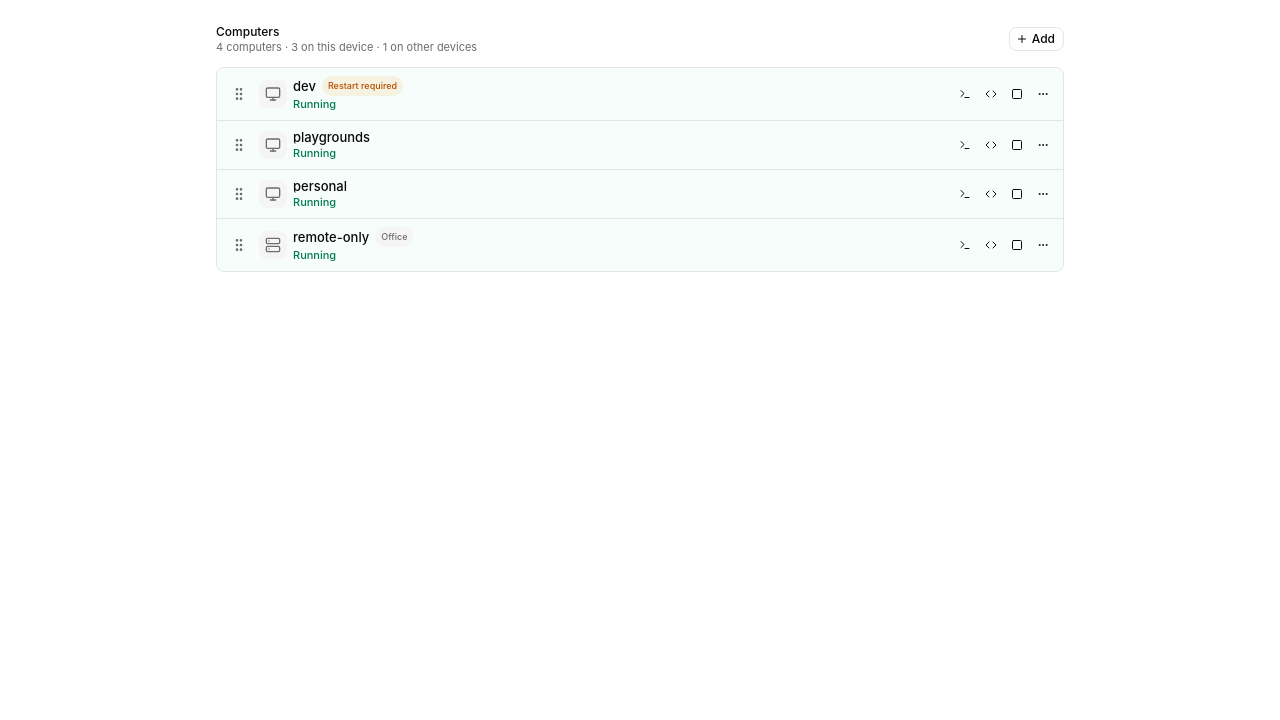
Test: rejects a checkpoint fork name that another computer on this device already uses
Click the button named "More actions for dev": click(1043, 94) [1031,82,1055,106]
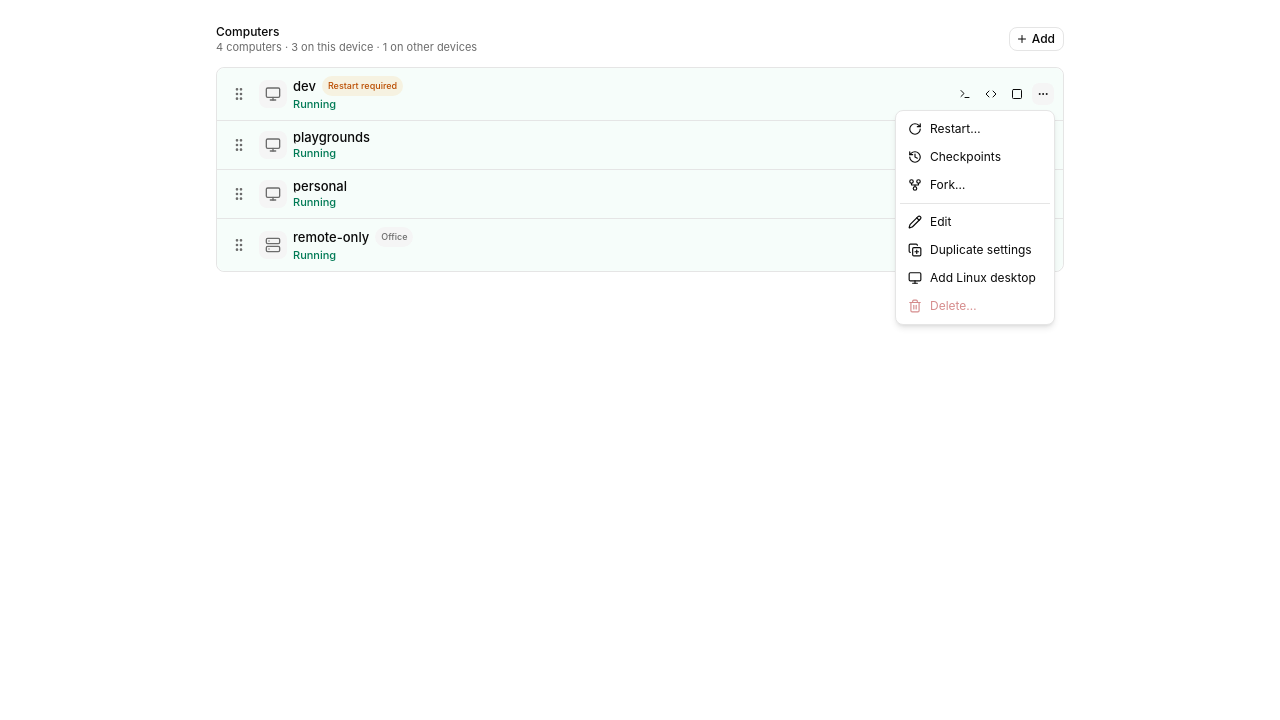
Click the menu item with aria-label "Checkpoints for dev": click(954, 156) [908,149,1001,164]
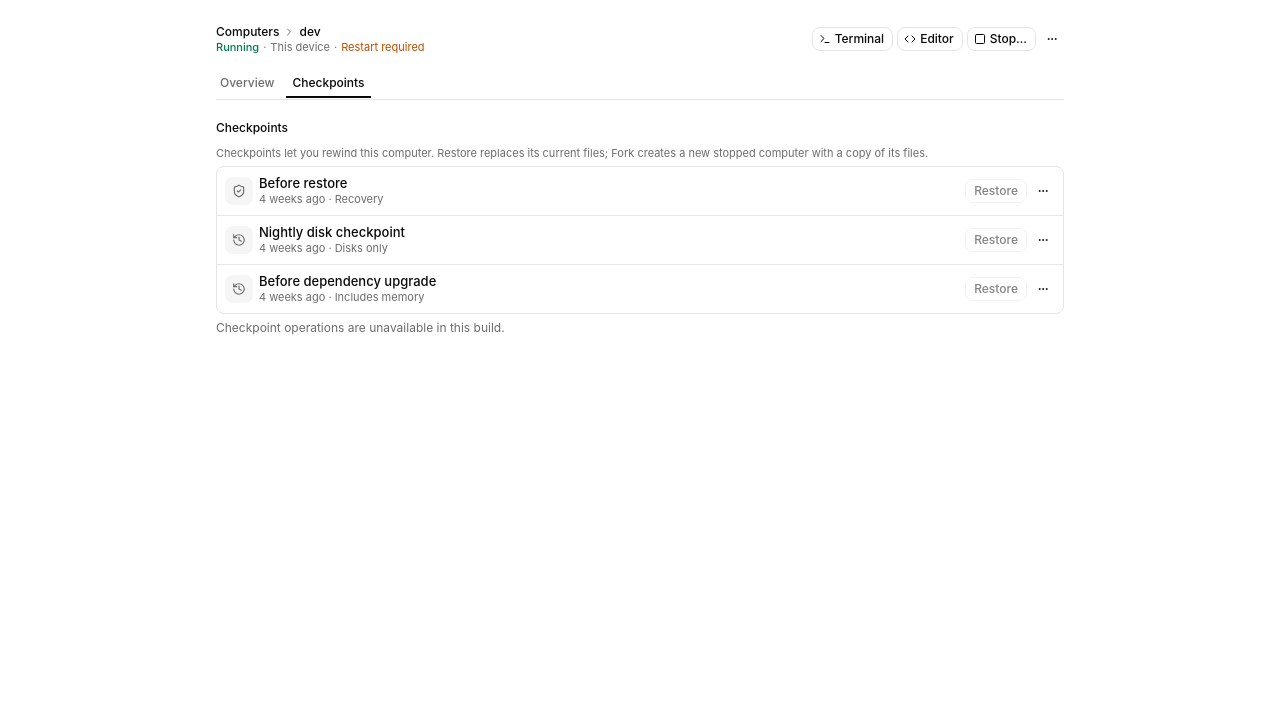
Click the button named "Checkpoint actions for Before dependency upgrade": click(1043, 289) [1031,277,1055,301]
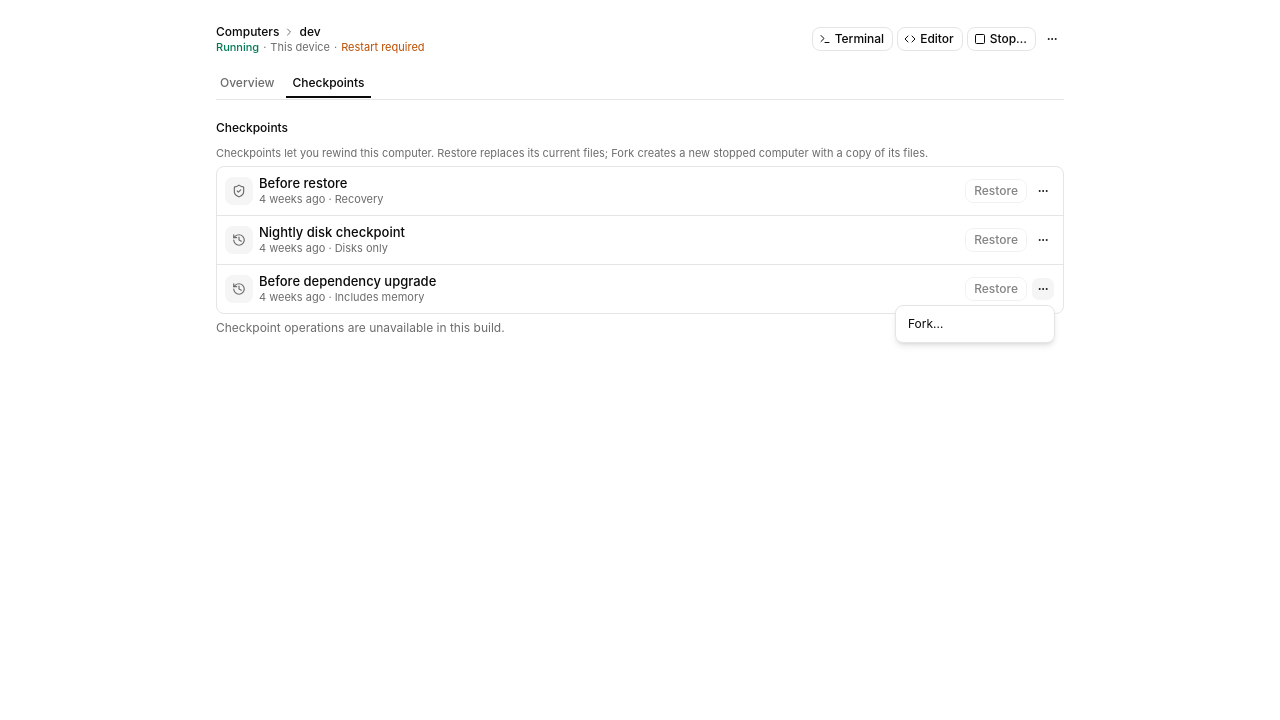
Click the menu item "Fork…": click(926, 324) [908,316,944,331]
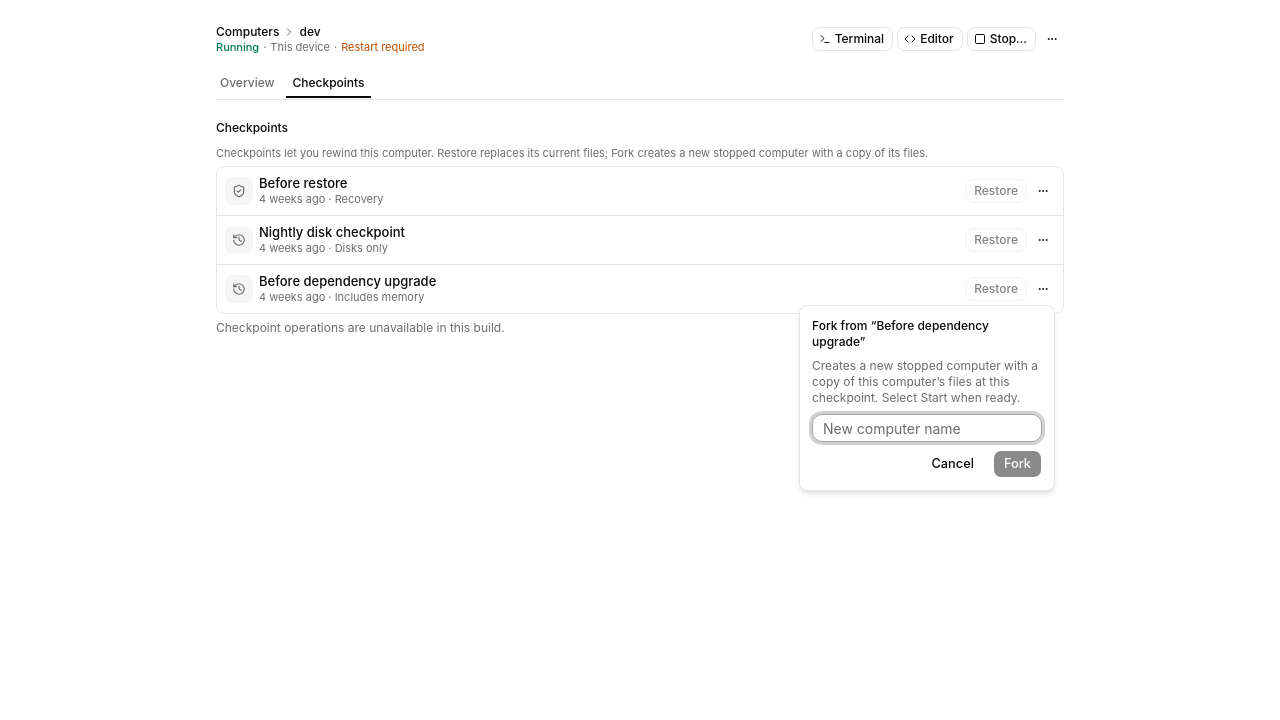
In the field labelled "New computer name": (927, 428) [812,414,1042,442], type "personal"
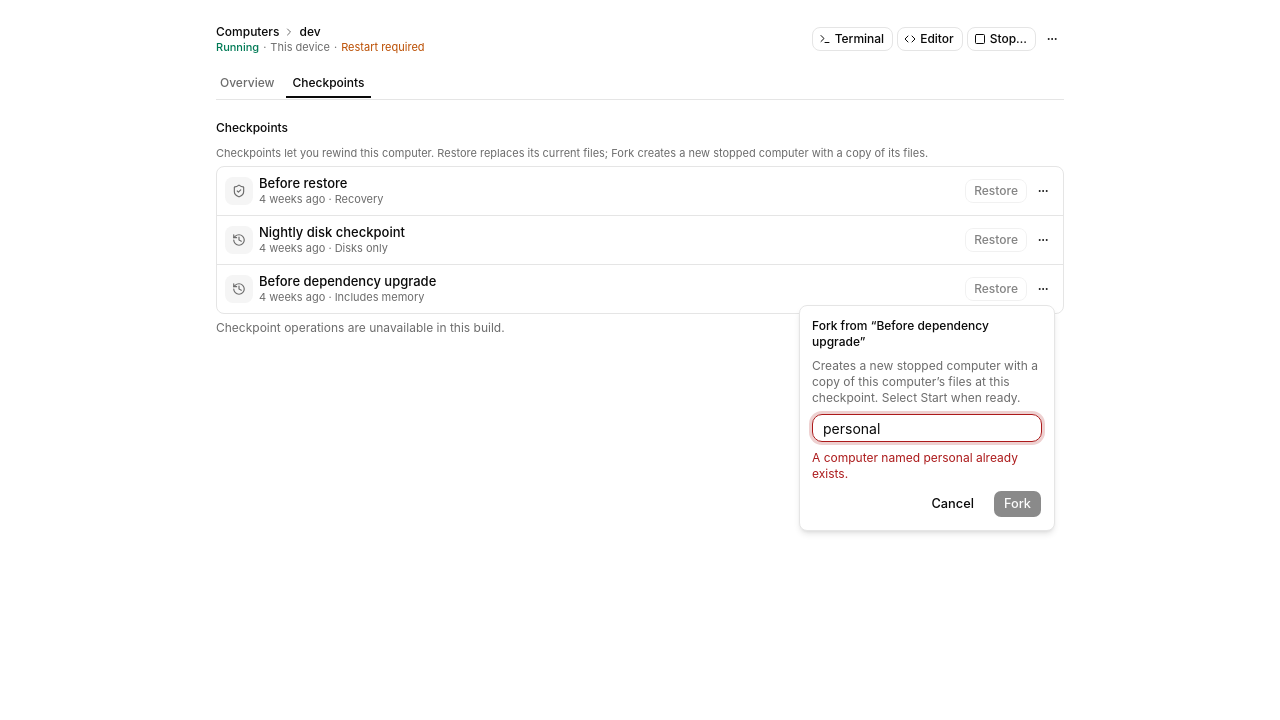
Result: the button "Fork" is disabled at [993,490,1042,518]
Result: the text "A computer named personal already exists." is shown at [812,450,1042,482]
A name that is only used on another device stays available here.
Replace the text in the field named "New computer name" with "remote-only": (927, 428) [812,414,1042,442]
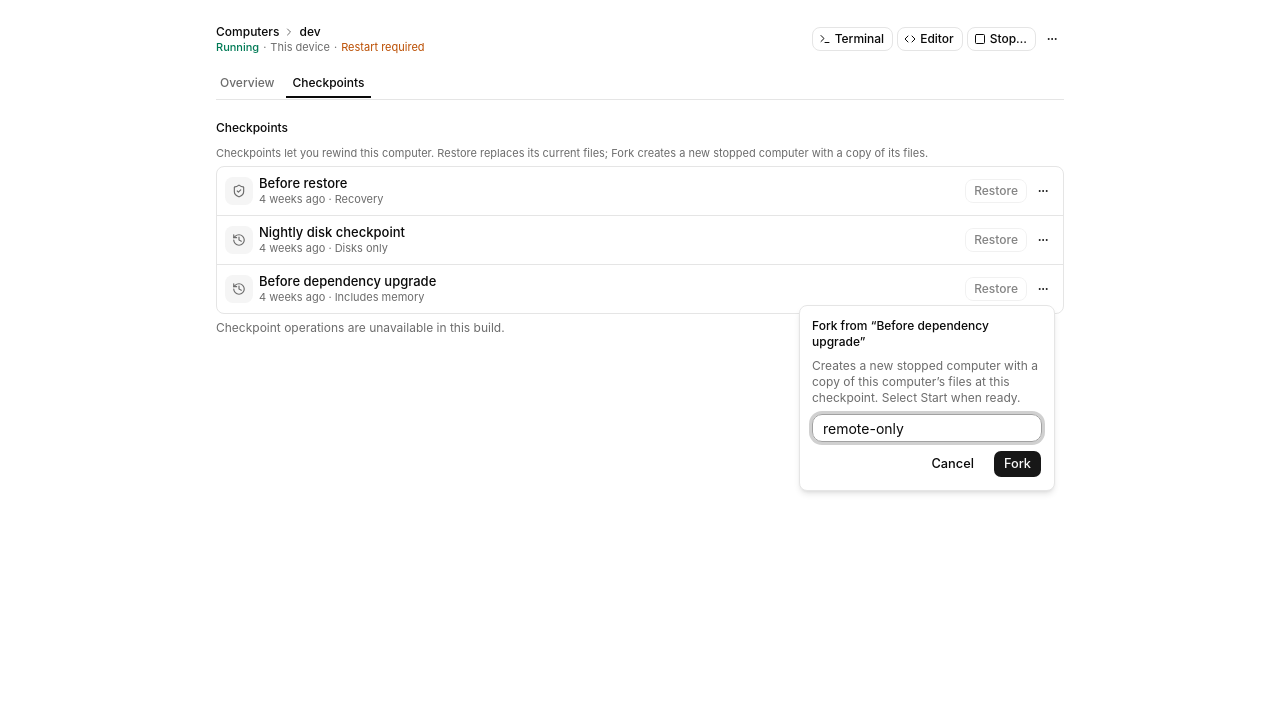
Expected: the text "already exists" is not shown
Result: the button "Fork" is enabled at [993,450,1042,478]
